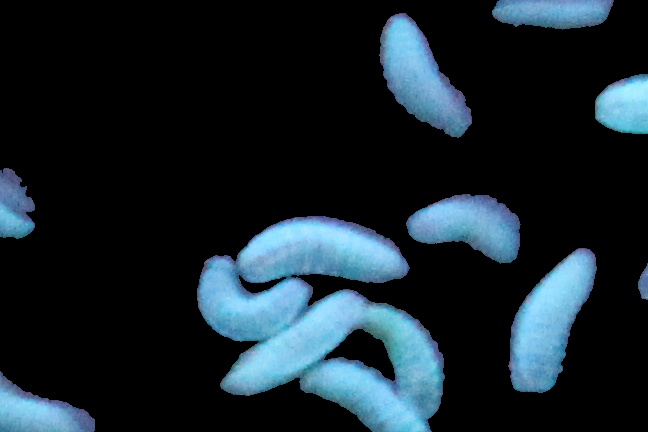larvae: (225, 291, 363, 393), (508, 248, 595, 394), (380, 15, 470, 137), (241, 222, 408, 284), (359, 305, 442, 415), (303, 366, 435, 432), (200, 263, 308, 339), (409, 199, 518, 263), (1, 385, 97, 432), (493, 1, 609, 30)
